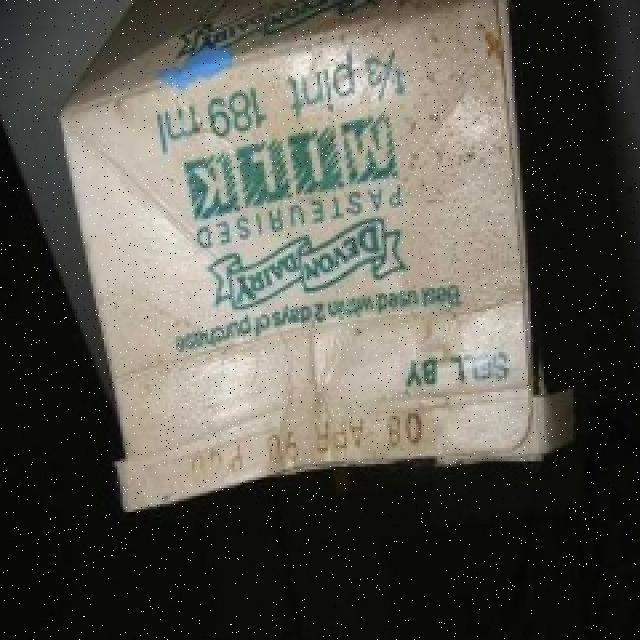box: (51, 0, 581, 475)
